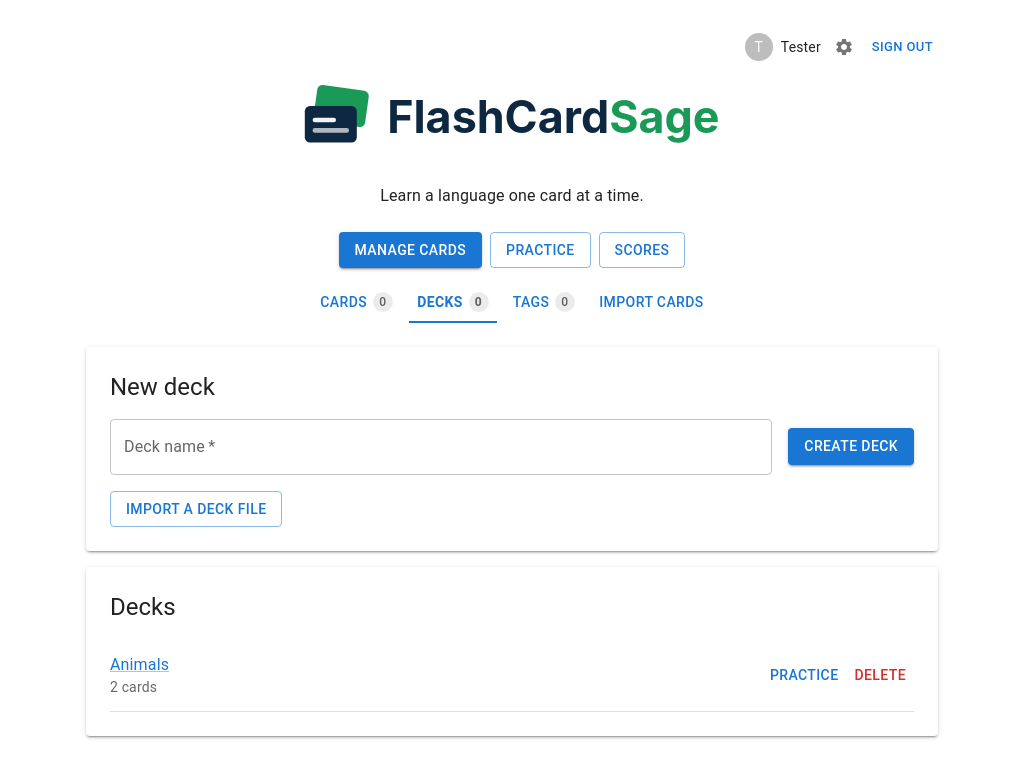
decks › the list › deletes a deck
Click the button named "Delete deck \"Animals\"". click: (880, 675)
box: [846,657,914,693]
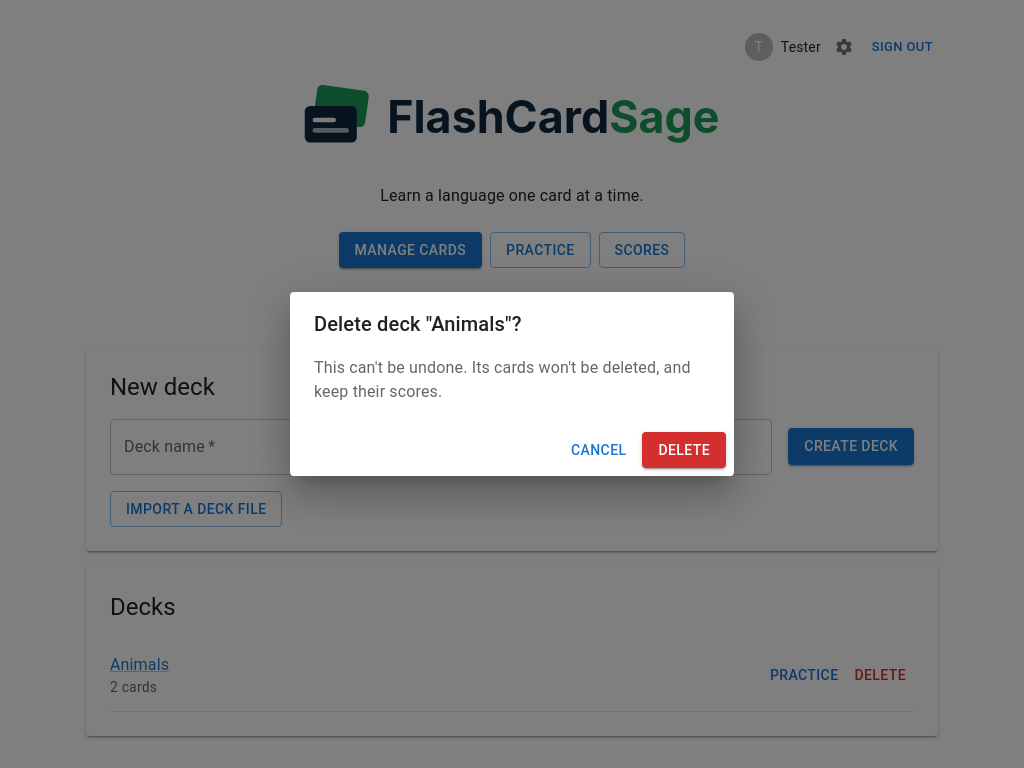
Click the button "Delete". click: (684, 450)
box: [642,432,726,468]
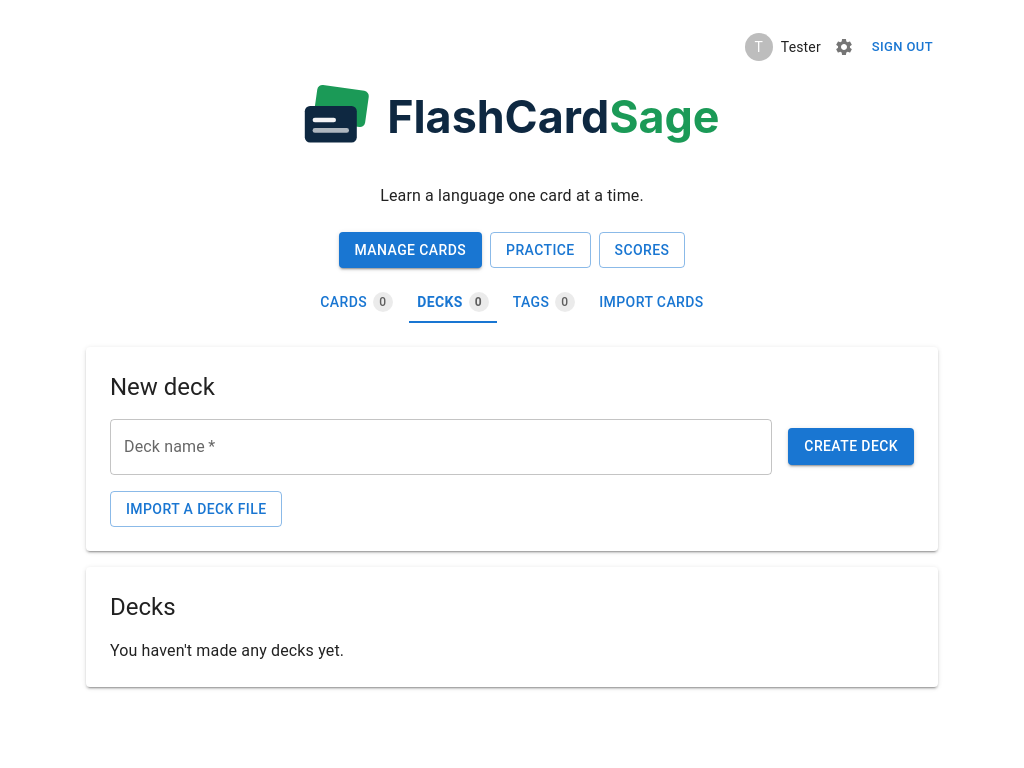
Expected: the text "You haven't made any decks yet." is shown, [110,641,344,660]
